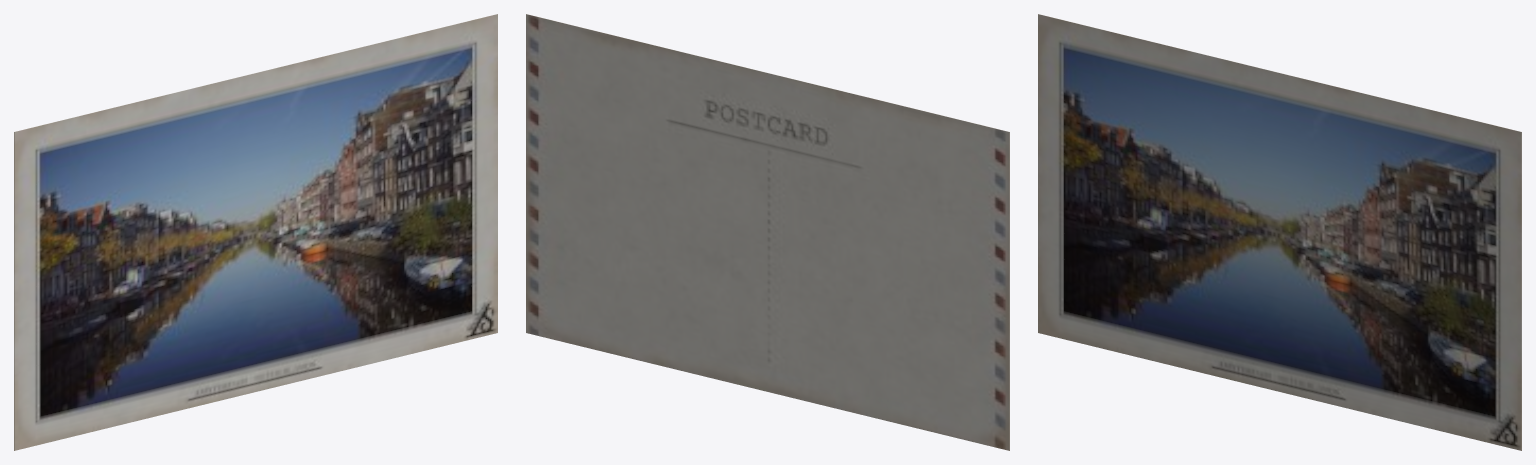
The picture shows the model from 3 angles, left to right: view 1: azimuth 30°, elevation 25°; view 2: azimuth 150°, elevation 25°; view 3: azimuth 330°, elevation 25°; orthographic projection.
Visible parts, largest first — view 1: postcard_01; view 2: postcard_01; view 3: postcard_01.
Part boxes in pixels (bbox=[...]): postcard_01: bbox=[14, 14, 497, 450]; postcard_01: bbox=[526, 14, 1009, 450]; postcard_01: bbox=[1038, 14, 1521, 450].
Size of the model in its own units: 0.1667 by 0.105 by 0.000136.
1 material, 1 textured.
